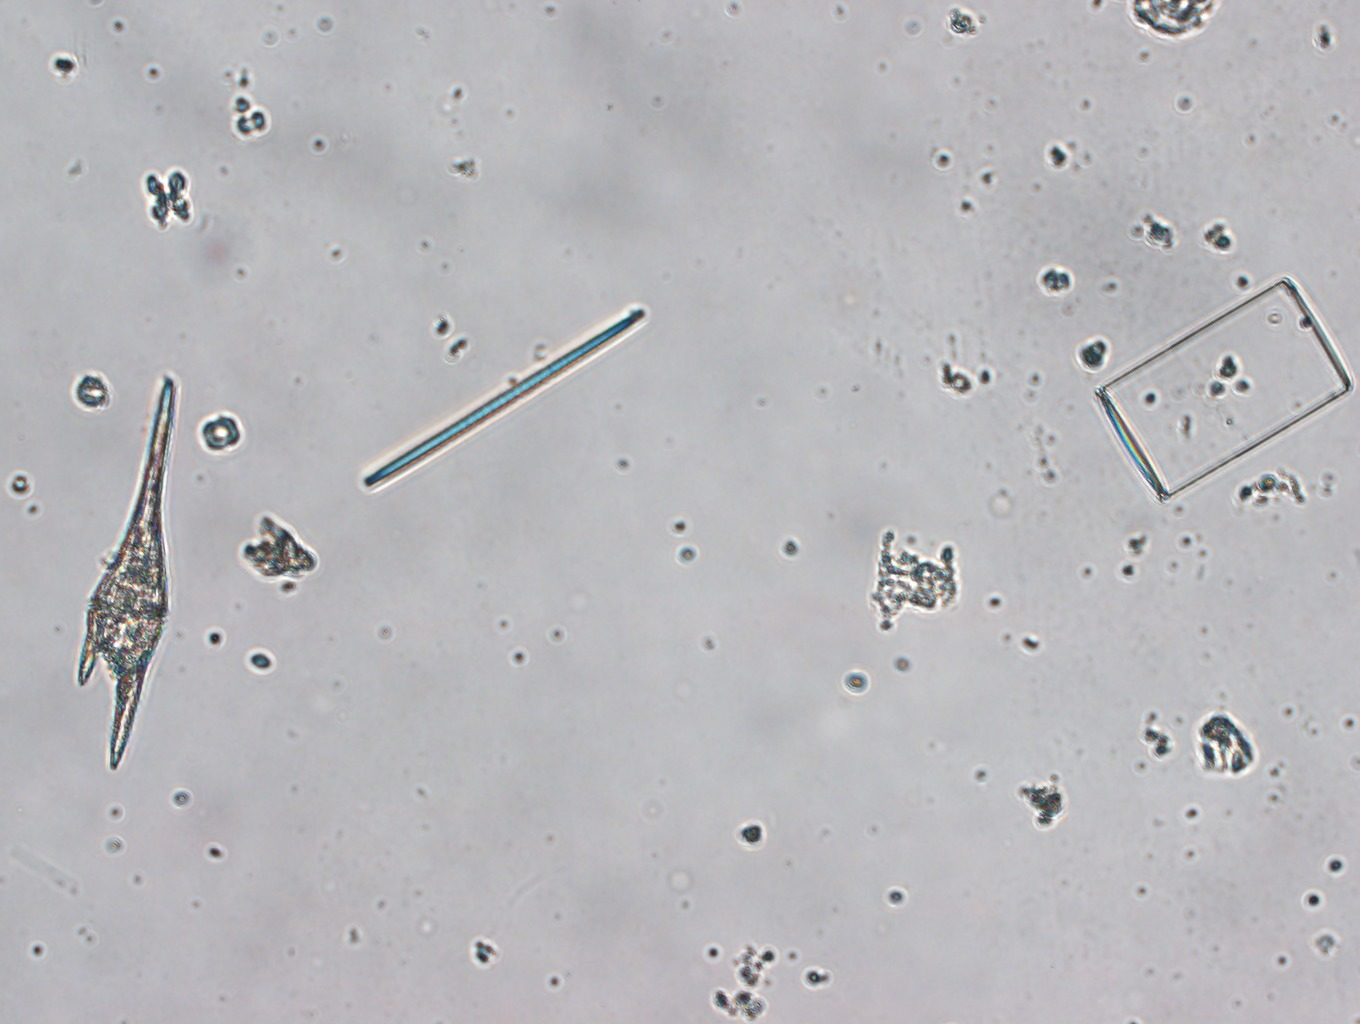ceratium furca: (80, 365, 190, 782)
guinardia flaccida: (1086, 271, 1360, 516)
